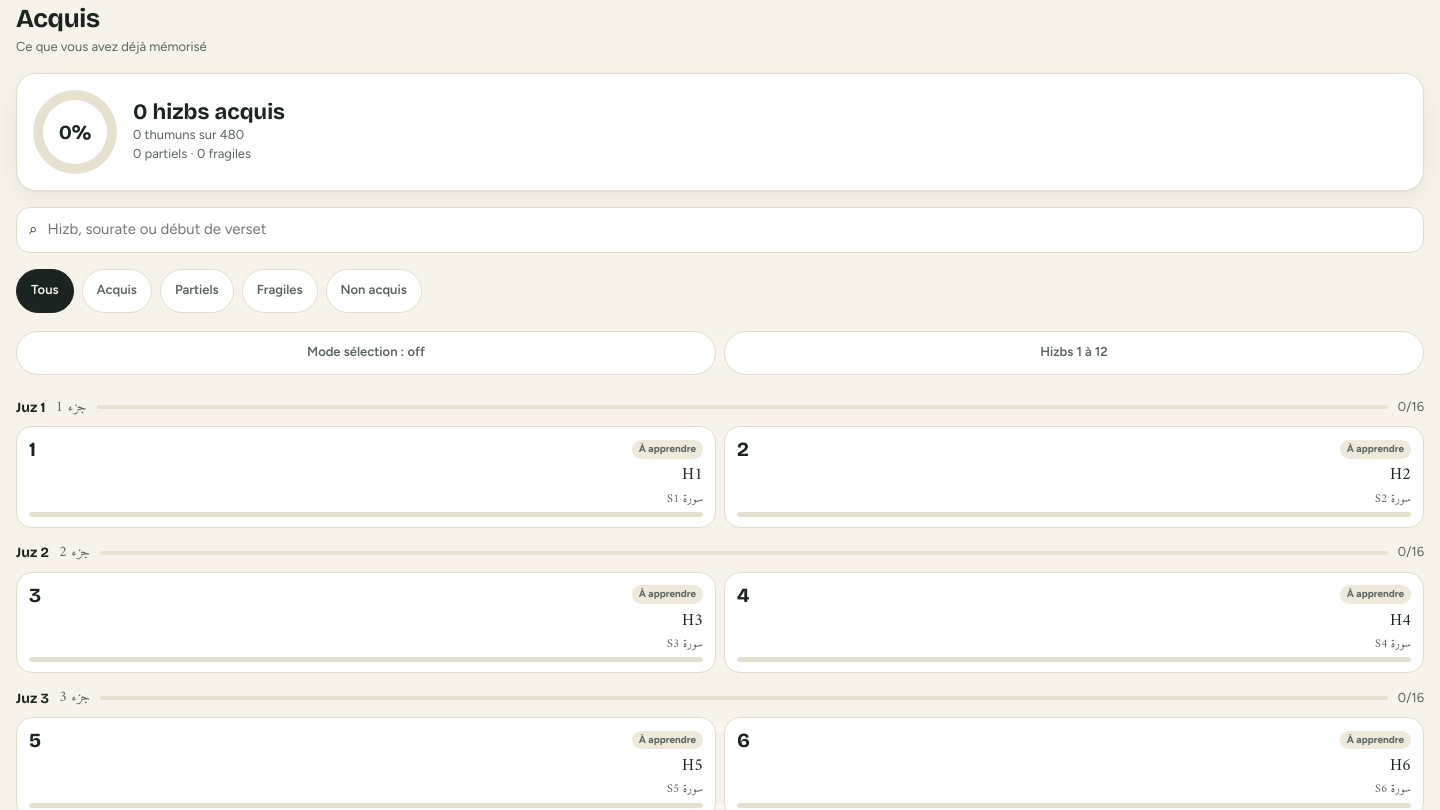
Acquis : appui long › 450 ms ouvre la feuille avec 8 lignes, sans basculer le hizb
Press the mouse on the button "3 À apprendre H3 سورة S3" at (667, 595), box [16, 572, 716, 673]
Wait 450 ms
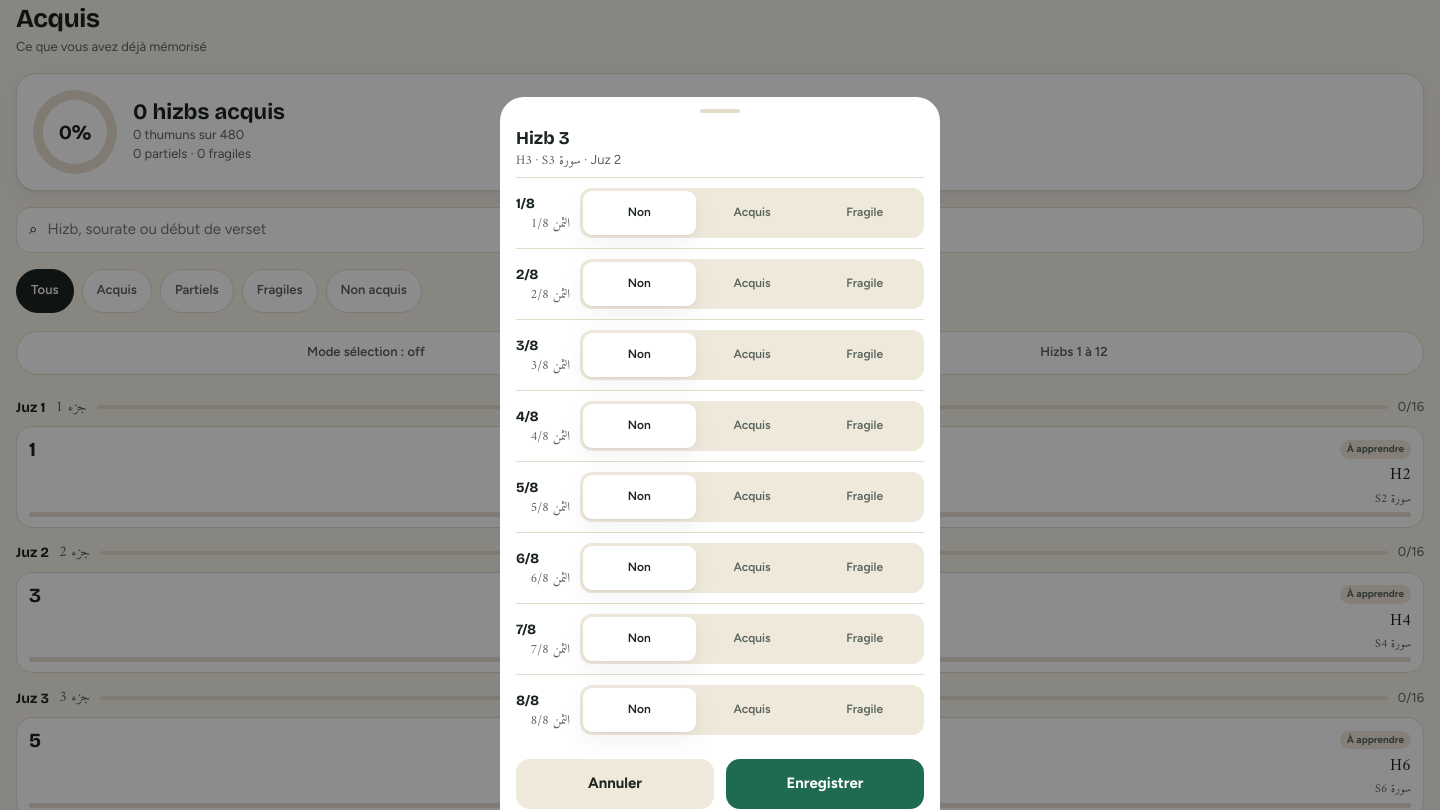
Check: the dialog is shown, box [500, 97, 940, 809]
Check: the number of elements named "Thumun" is 8
